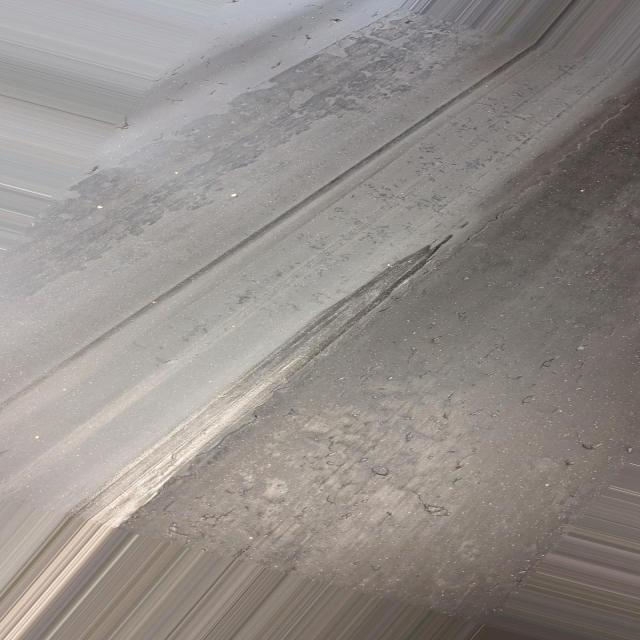Wear: (76, 237, 448, 525)
